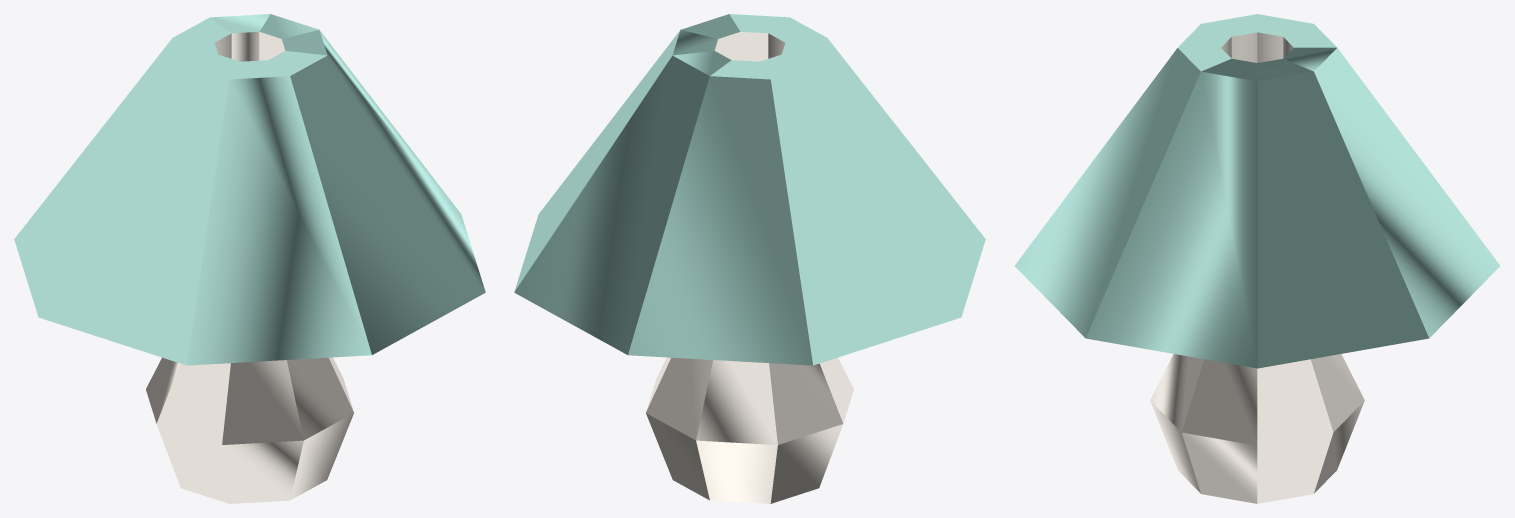
Rendered from lamp_v02.fbx.
3 views of the same model, side by side, from view 1: azimuth 30°, elevation 25°; view 2: azimuth 150°, elevation 25°; view 3: azimuth 270°, elevation 25° (orthographic).
Parts seen in each view (by area): view 1: Lamp; view 2: Lamp; view 3: Lamp.
Boxes of the visible parts, left/top/right/bottom form: Lamp: left=14, top=14, right=485, bottom=503; Lamp: left=514, top=14, right=985, bottom=503; Lamp: left=1014, top=14, right=1500, bottom=503.
Bounding box in the file's own units: 47.35 × 45.43 × 47.35.
